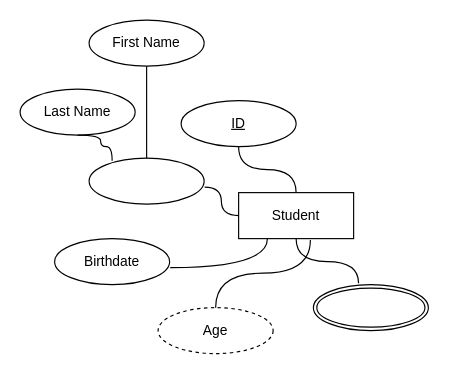
The diagram is 449 pixels wide and 374 high, and some of its shapes have lost their labels. Each missing label, with the centre of its shape:
"Name" goes at pixel 146 180.
"Phone" goes at pixel 370 307.
